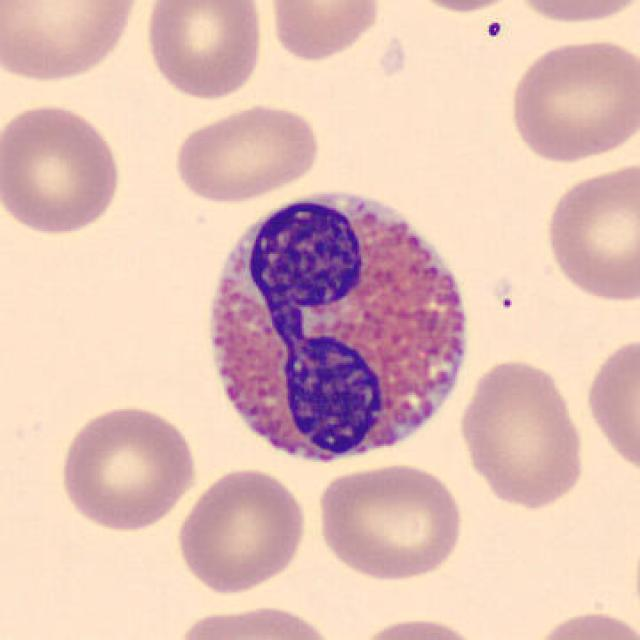eosinophil: (206, 191, 470, 459)
rbc: (316, 462, 471, 588), (459, 358, 581, 514), (54, 403, 192, 529), (0, 101, 126, 238), (515, 44, 640, 173), (167, 102, 332, 190), (178, 468, 304, 580), (542, 172, 640, 313), (146, 0, 265, 104), (0, 0, 137, 76), (575, 337, 640, 480), (271, 0, 380, 71), (177, 606, 326, 640), (526, 0, 640, 37), (541, 603, 640, 640), (427, 0, 519, 23)
